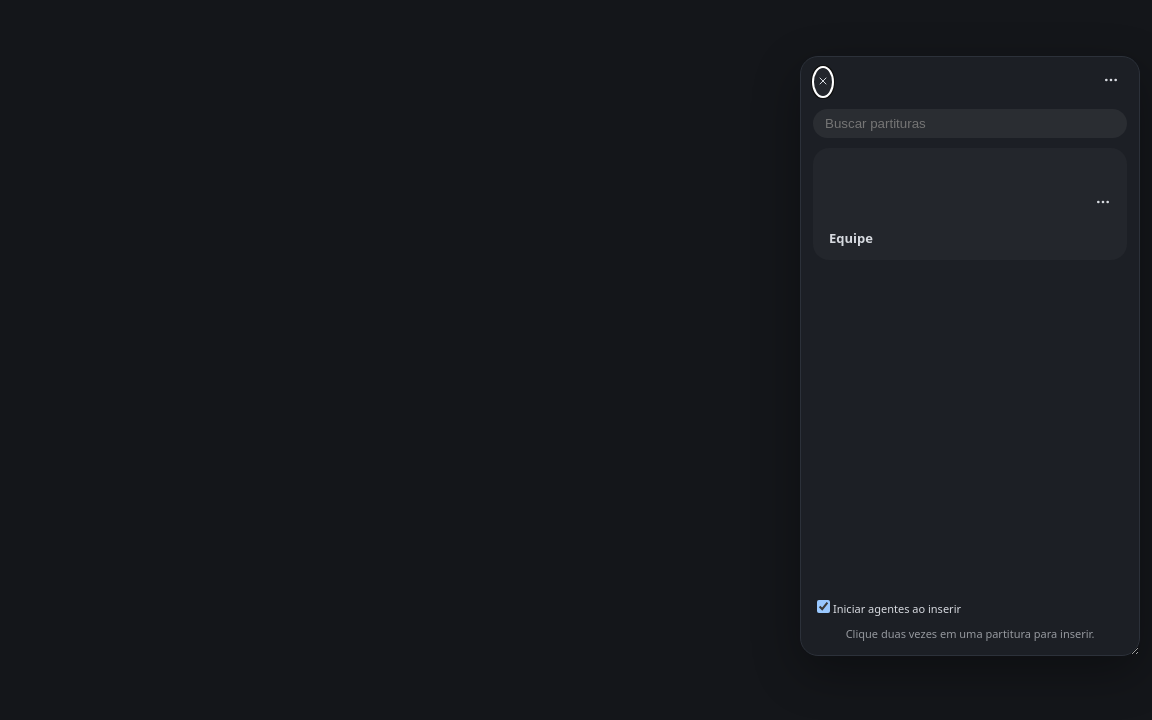
lista com inserir por duplo clique e opções por item
The width and height of the screenshot is (1152, 720).
Double-click the button "Equipe" at (954, 204), box [821,156,1087,252]
Click the button named "Ações de Equipe" at (1103, 204), box [1087,156,1119,252]
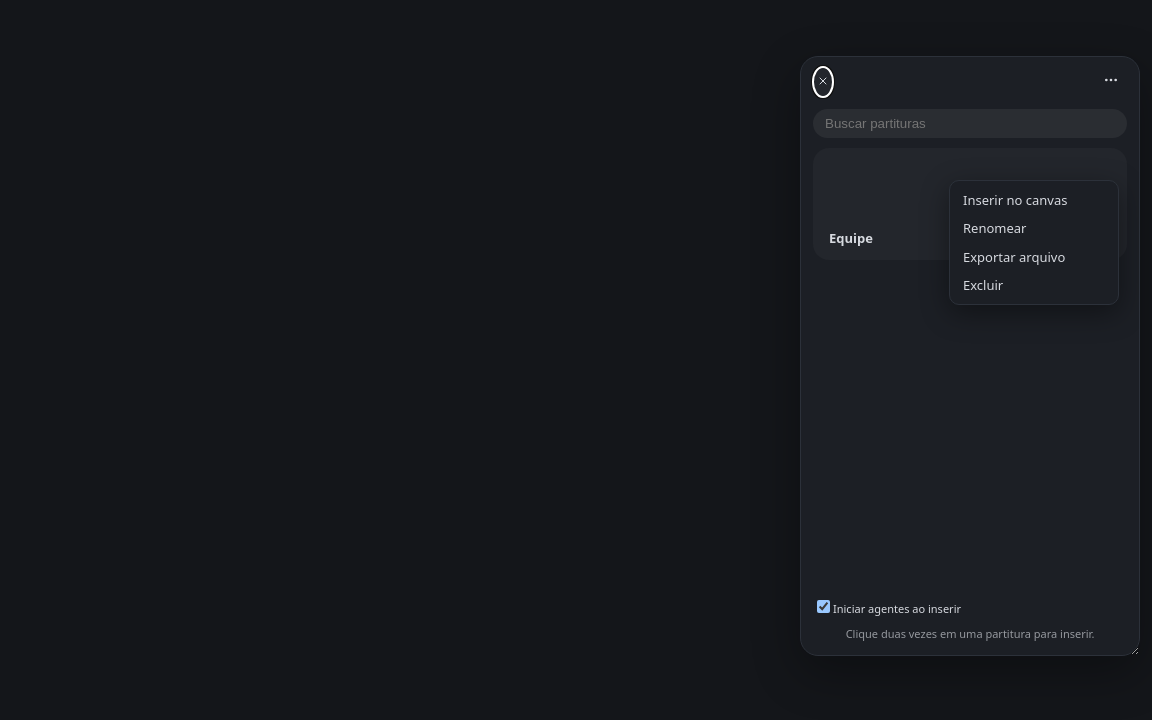
Expected: the text "Renomear" is shown, [955,214,1113,243]
Expected: the text "Exportar arquivo" is shown, [955,243,1113,271]
